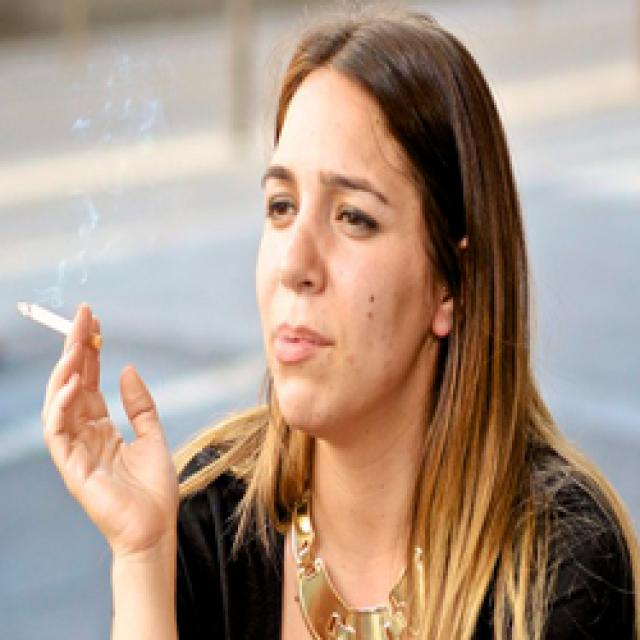Smooking: (10, 290, 109, 358)
